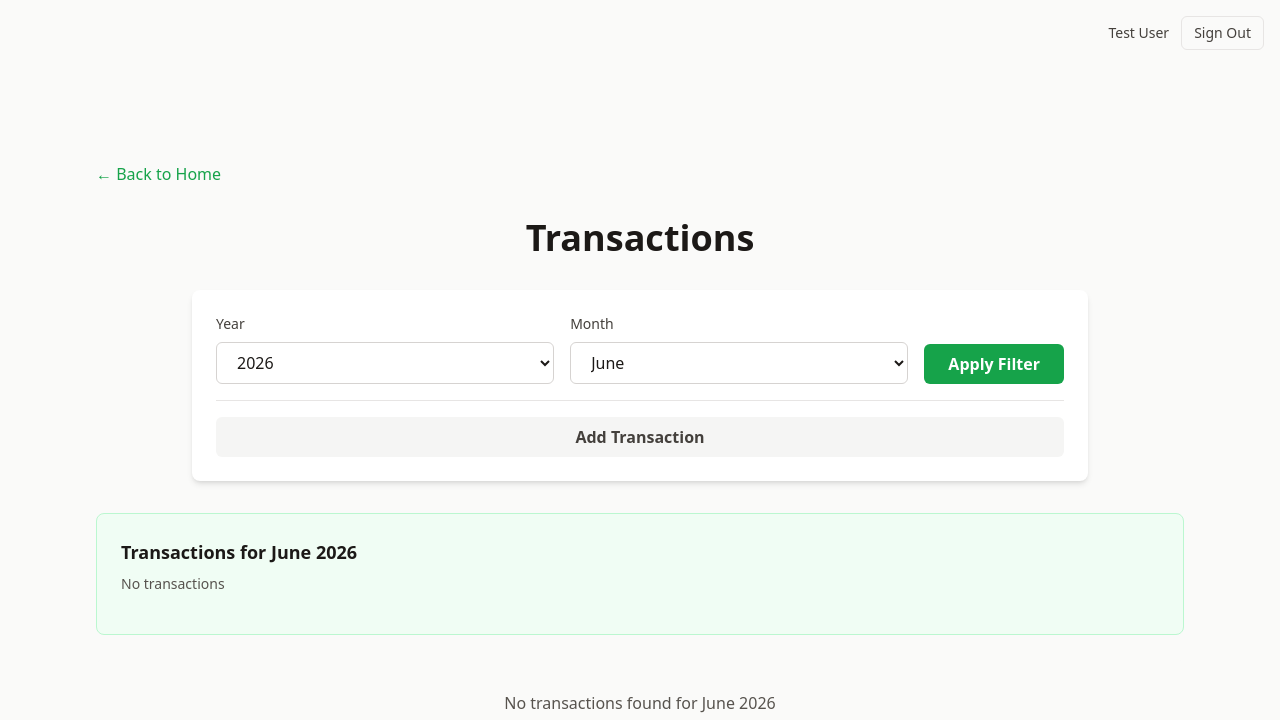
Test: Transactions Page › with transactions data › displays transactions in a table with Source column
Select "2024" in the dropdown with id "year" at point(385, 363), box [216,342,554,384]
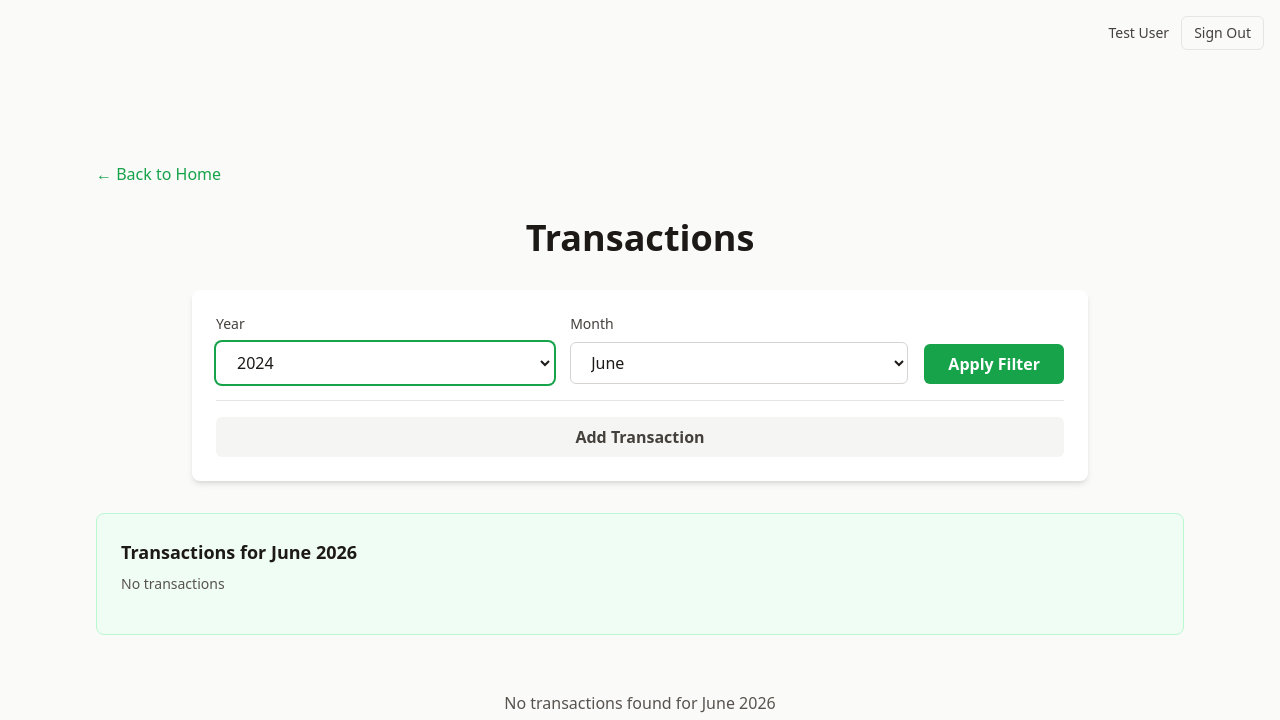
Select "June" in the dropdown with id "month" at point(739, 363), box [570,342,908,384]
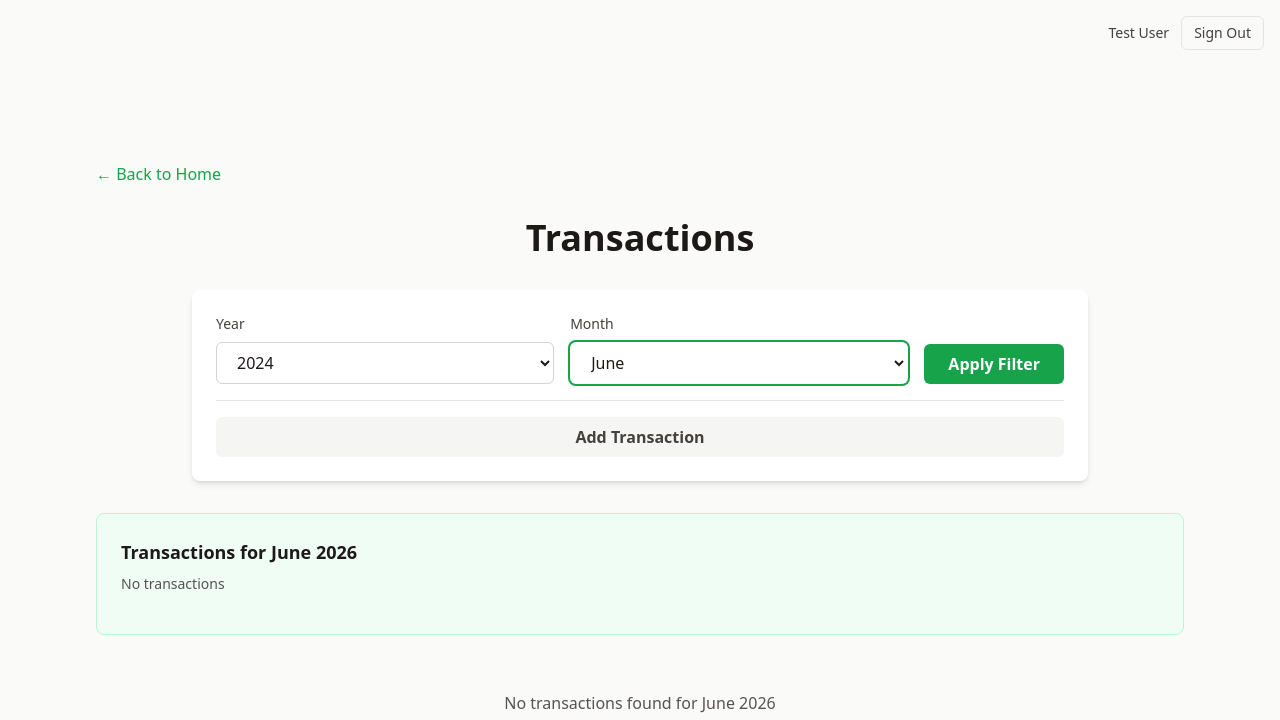
Click the button "Apply Filter" at point(994, 364), box [924,344,1064,384]
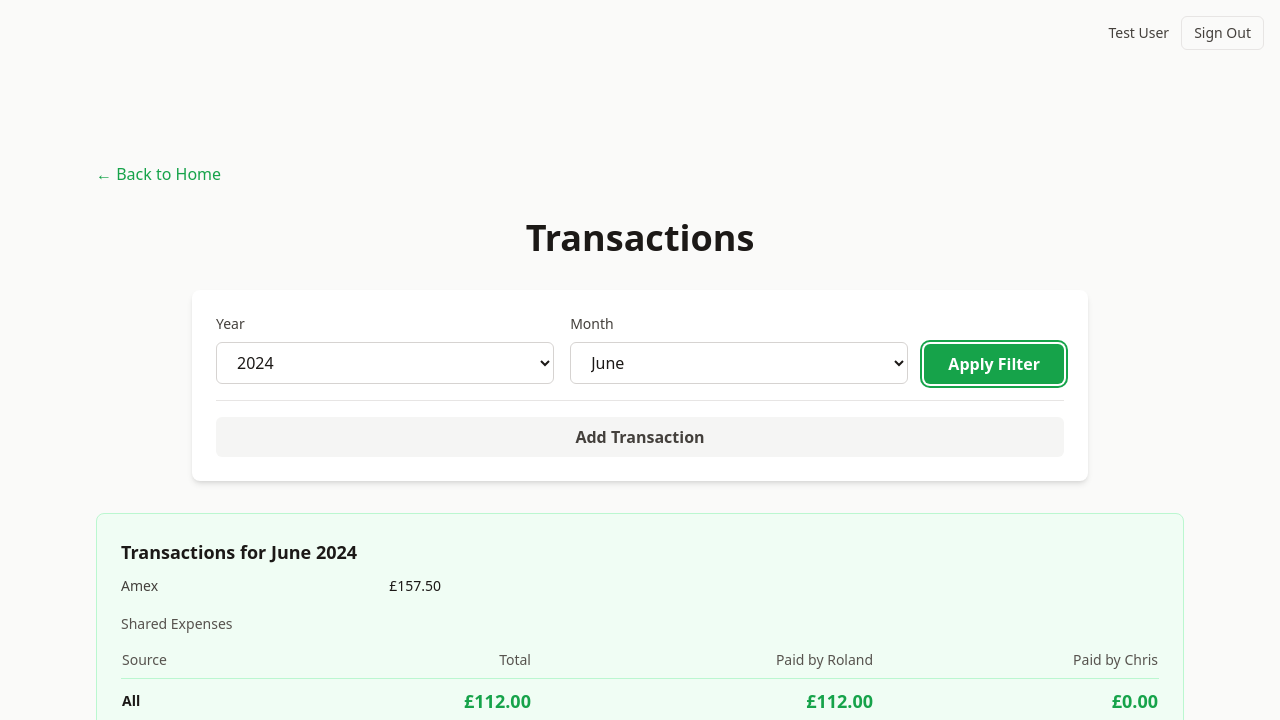
Check: the column heading "Source" is shown, box [121,642,285,678]
